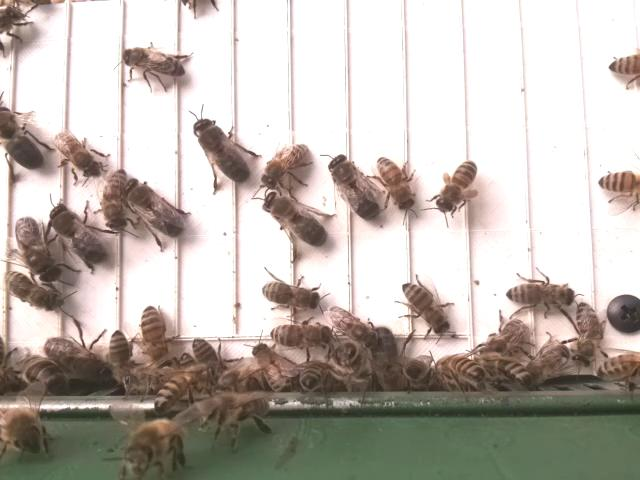Drone: (119, 174, 189, 238), (48, 199, 109, 269), (190, 115, 251, 185), (326, 153, 381, 224), (262, 190, 330, 247), (41, 335, 113, 384), (13, 214, 63, 283), (0, 102, 46, 172), (368, 323, 403, 391)
Worker: (1, 270, 65, 318), (401, 279, 451, 335), (118, 43, 188, 82), (258, 140, 312, 187), (49, 127, 100, 175), (434, 159, 478, 214), (570, 300, 606, 367), (376, 152, 415, 211), (139, 300, 171, 371), (503, 279, 574, 311), (260, 278, 323, 314), (251, 340, 294, 391), (328, 302, 375, 347), (266, 321, 335, 351), (100, 170, 129, 231), (436, 353, 490, 383), (108, 327, 133, 385), (594, 168, 640, 199)
